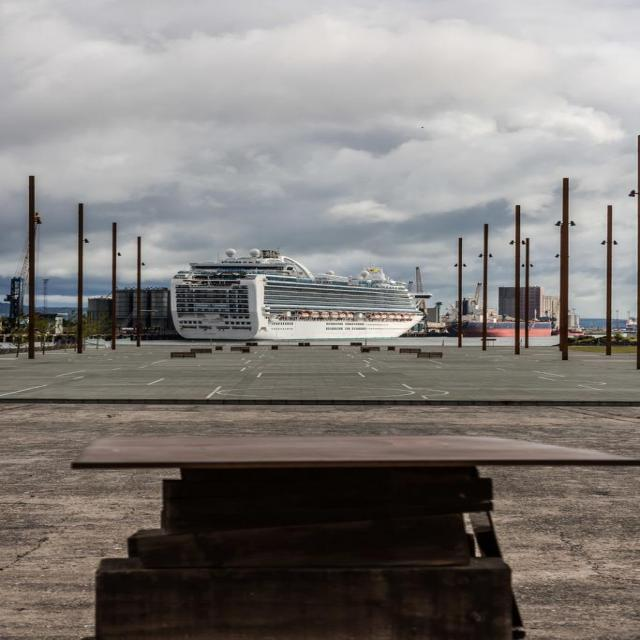table: (48, 435, 601, 622)
